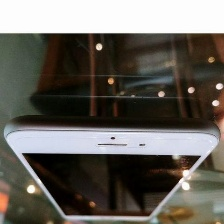phone: (0, 113, 221, 224)
